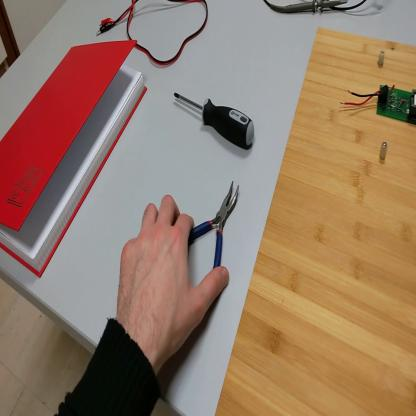hand: (117, 193, 230, 363)
high voltage board: (340, 75, 416, 127)
oscilloscope probe tip: (278, 2, 349, 22)
pliers: (190, 181, 241, 272)
register: (2, 28, 150, 279)
screwdriver-: (174, 90, 255, 149)
working area: (216, 28, 416, 414)
